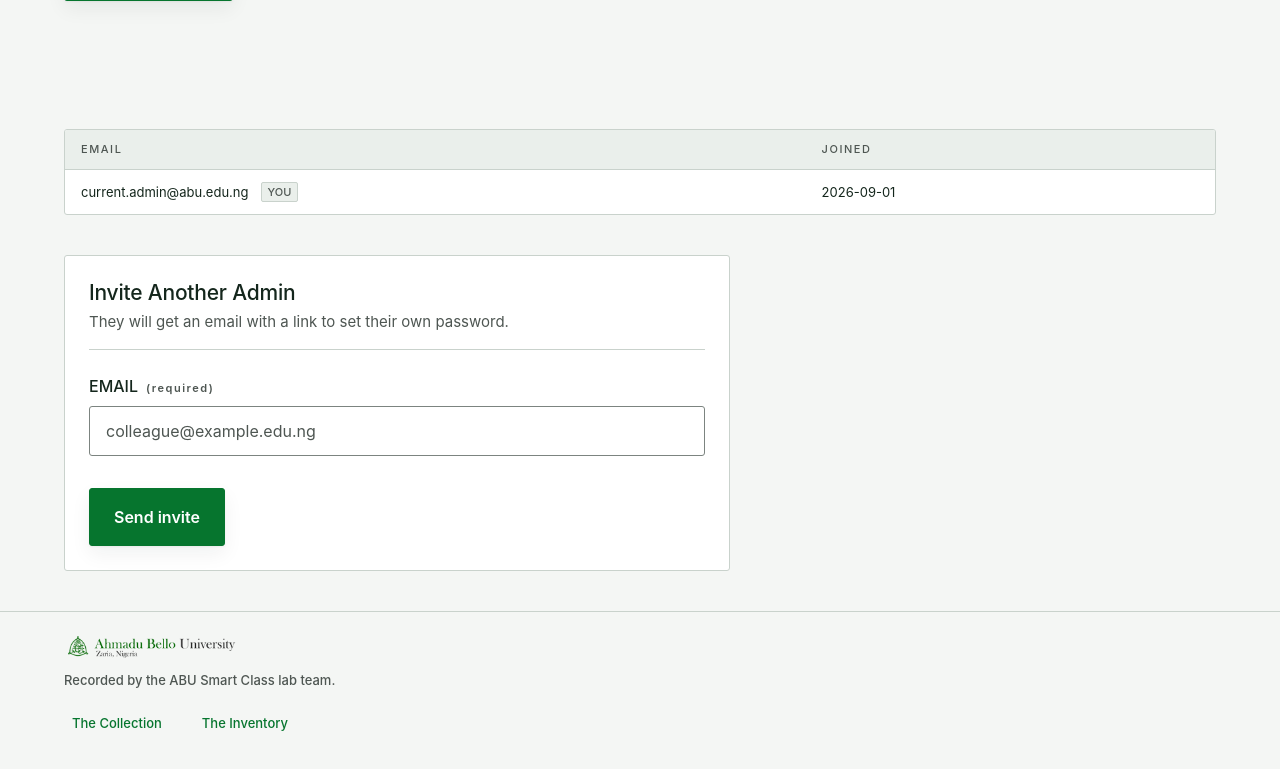
Test: S-05 Challenger Suite — M2 Pre-Agreed Seams › Seam 1: S-008 Admin Team Management & Invites (app/admin/admins/page.tsx & lib/admin-api.ts) › generic invite error displays caution banner and preserves typed email in input
This screenshot has width=1280, height=769.
(page scrolled)
Type "crash.probe@abu.edu.ng" into the field with placeholder "colleague@example.edu.ng".
click(397, 431); type("crash.probe@abu.edu.ng")  # box [89,406,705,456]
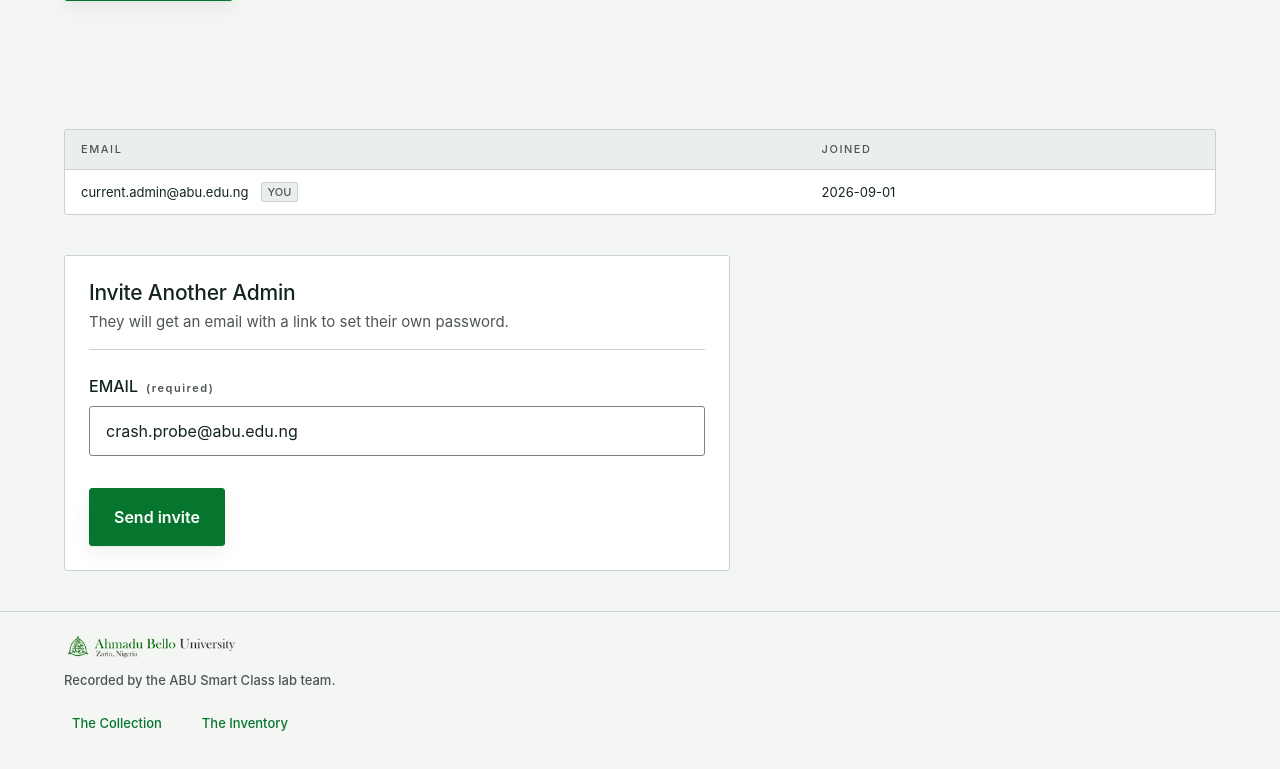
Click the button "Send invite".
click(157, 517)  # box [89,488,225,546]
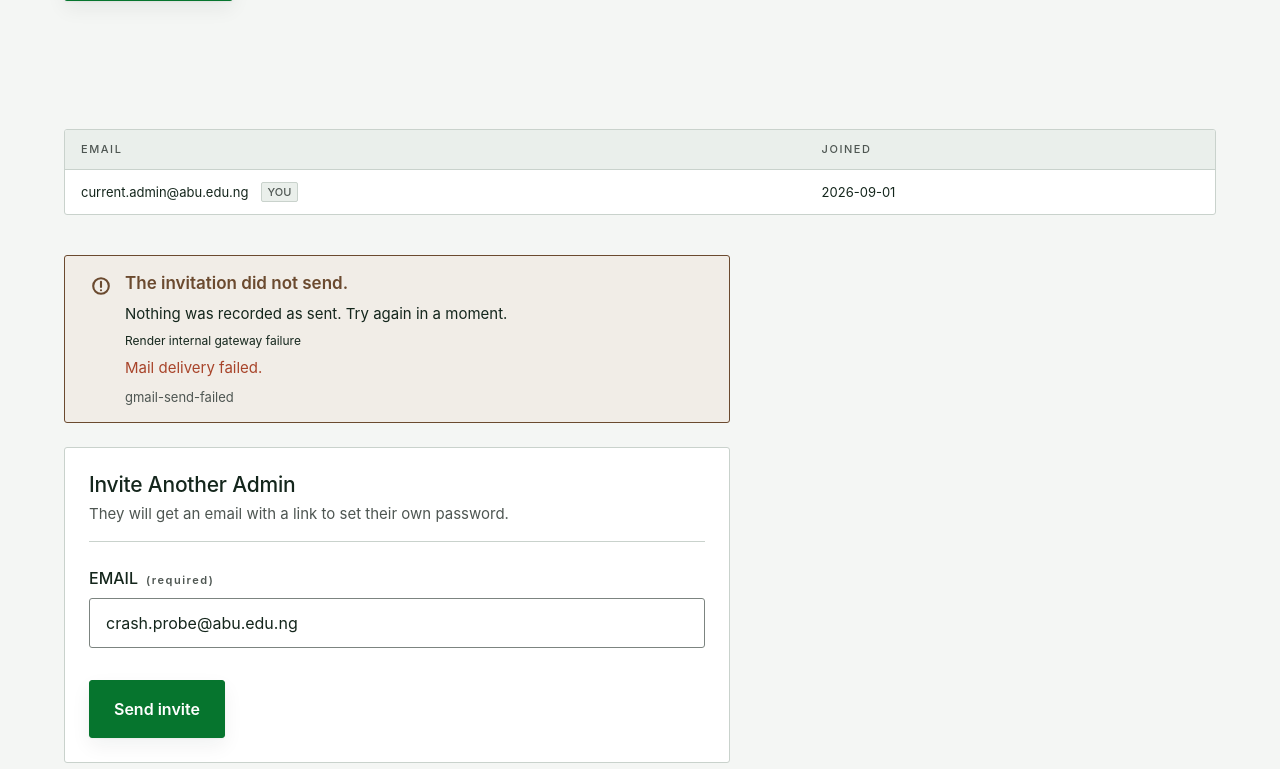
expect the heading "The invitation did not send." is shown: met, box [125,273,348,293]
